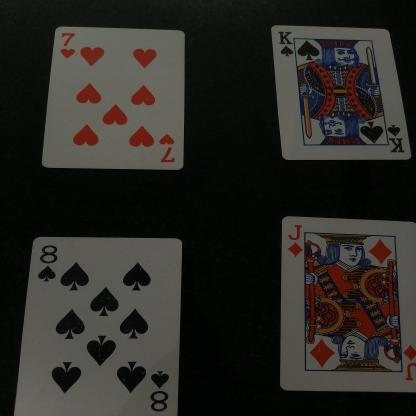7H: (53, 21, 78, 71)
8S: (28, 242, 70, 294)
JD: (278, 213, 316, 266)
KS: (262, 27, 296, 69)
